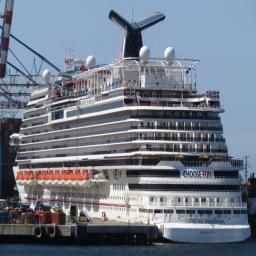cruises: (10, 9, 253, 248)
